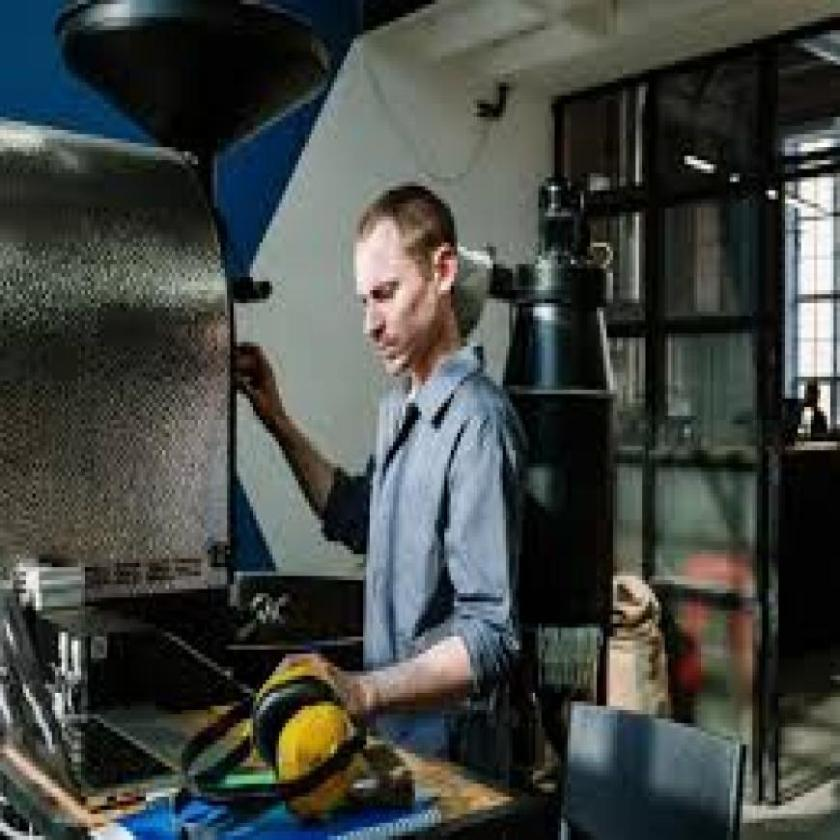Sin_casco: (349, 176, 465, 390)
